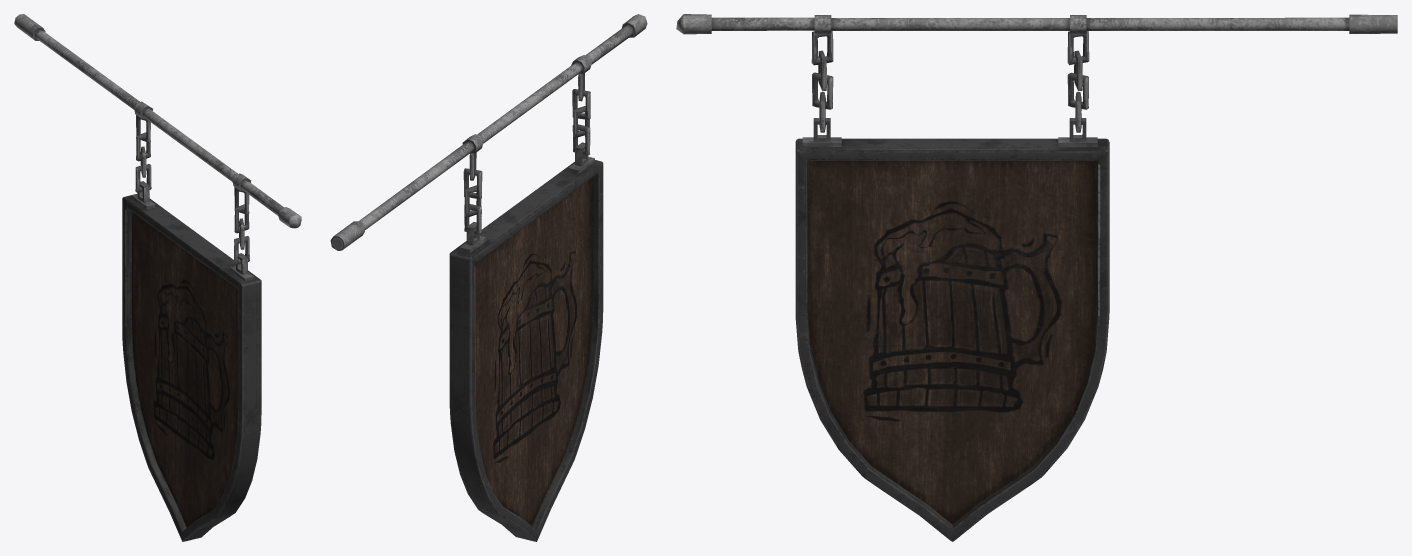
File: SM_TavernSign_01.fbx
The picture shows the model from 3 angles, left to right: view 1: azimuth 30°, elevation 25°; view 2: azimuth 150°, elevation 25°; view 3: azimuth 270°, elevation 25°; orthographic projection. The views are drawn at different scales.
Parts seen in each view (by area): view 1: SM_TavernSign_01_LOD0; view 2: SM_TavernSign_01_LOD0; view 3: SM_TavernSign_01_LOD0.
Boxes of the visible parts, x1,y1,x2,y2 form: SM_TavernSign_01_LOD0: (14, 14, 301, 541); SM_TavernSign_01_LOD0: (330, 14, 647, 541); SM_TavernSign_01_LOD0: (676, 14, 1397, 541).
Size of the model in its own units: 6.13 by 147 by 117.
1 material, 1 textured.
